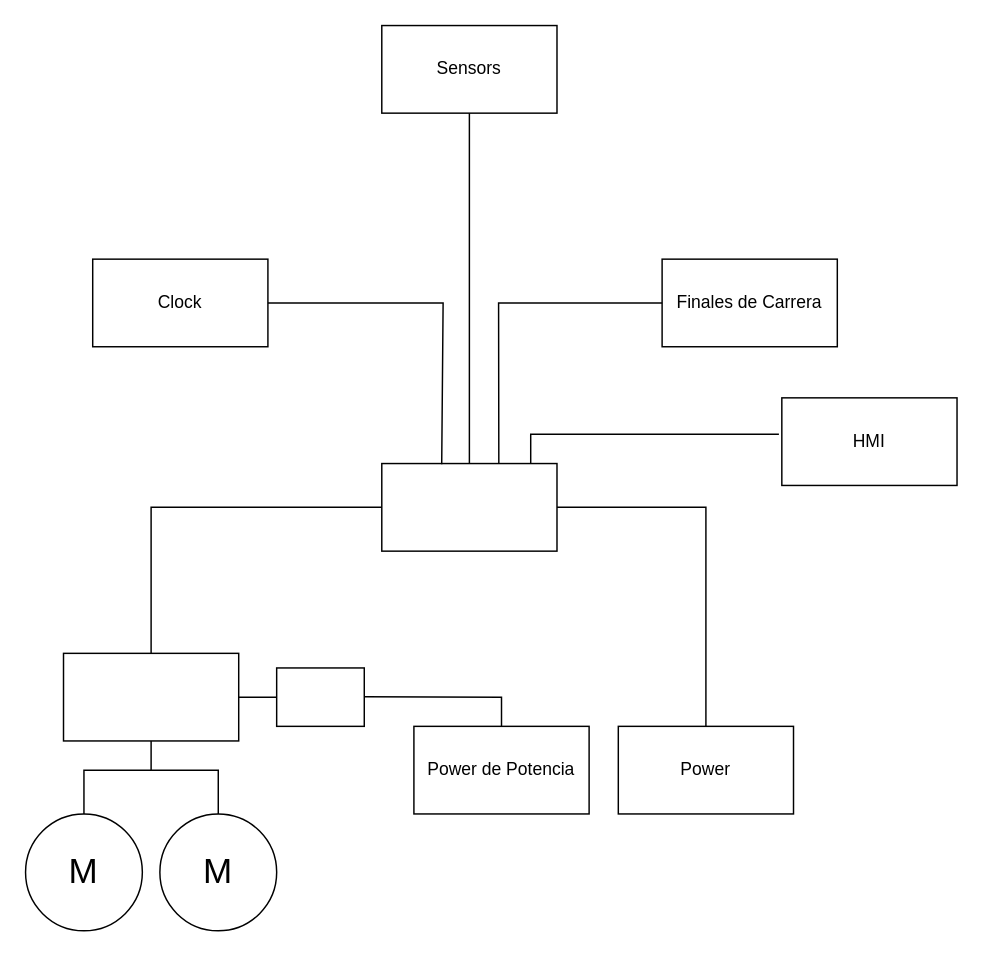
This 983x956 diagram has some shape labels left out. Each missing label, with the centre of its shape:
"Drivers Motores" belongs at (x=150, y=696).
"Micro" belongs at (x=468, y=506).
"Switch" belongs at (x=319, y=696).
